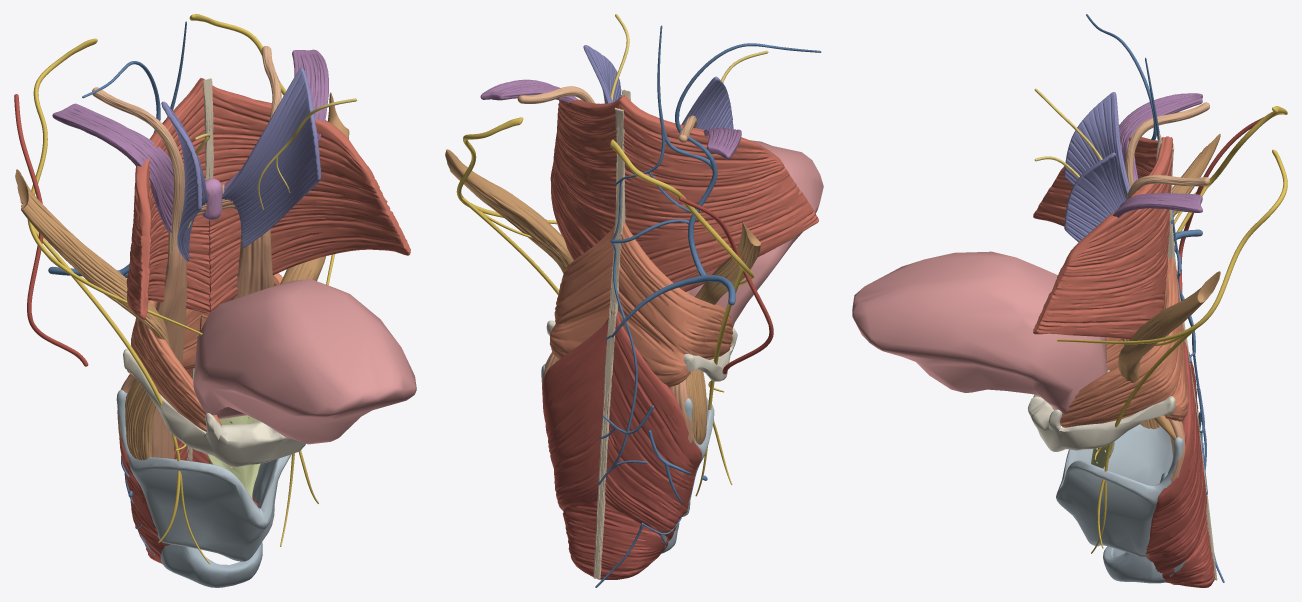
The model's file is pharynx.glb.
3 views of the same model, side by side, from view 1: azimuth 30°, elevation 25°; view 2: azimuth 150°, elevation 25°; view 3: azimuth 270°, elevation 25° (orthographic). The views are drawn at different scales.
Parts seen in each view (by area): view 1: tongue, superior-constrictor, thyroid-cartilage, tensor-veli-palatini, stylopharyngeus, levator-veli-palatini, palatopharyngeus, hyoid-bone, glossopharyngeal-nerves, middle-constrictor, salpingopharyngeus, cricoid-cartilage (+7 smaller); view 2: superior-constrictor, inferior-constrictor, middle-constrictor, stylopharyngeus, pharyngeal-venous-plexus, glossopharyngeal-nerves, pharyngeal-raphe, tongue, tensor-veli-palatini, levator-veli-palatini, ascending-pharyngeal-artery, salpingopharyngeus (+4 smaller); view 3: tongue, superior-constrictor, thyroid-cartilage, inferior-constrictor, middle-constrictor, tensor-veli-palatini, stylopharyngeus, glossopharyngeal-nerves, hyoid-bone, levator-veli-palatini, pharyngeal-venous-plexus, salpingopharyngeus (+3 smaller).
Boxes of the visible parts, x1,y1,x2,y2 form: tongue: (193, 279, 416, 444); superior-constrictor: (126, 78, 410, 319); thyroid-cartilage: (116, 389, 291, 561); tensor-veli-palatini: (161, 67, 321, 261); stylopharyngeus: (15, 92, 349, 460); levator-veli-palatini: (52, 49, 328, 232); palatopharyngeus: (117, 183, 273, 564); hyoid-bone: (123, 349, 305, 466); glossopharyngeal-nerves: (27, 14, 334, 564); middle-constrictor: (127, 273, 282, 431); salpingopharyngeus: (92, 46, 281, 266); cricoid-cartilage: (160, 542, 262, 587); superior-constrictor: (550, 95, 818, 291); inferior-constrictor: (542, 311, 702, 579); middle-constrictor: (549, 223, 732, 387); stylopharyngeus: (445, 149, 760, 444); pharyngeal-venous-plexus: (595, 25, 821, 587); glossopharyngeal-nerves: (456, 117, 754, 496); pharyngeal-raphe: (593, 89, 630, 579); tongue: (689, 140, 823, 326); tensor-veli-palatini: (583, 45, 733, 130); levator-veli-palatini: (480, 79, 741, 159); ascending-pharyngeal-artery: (679, 197, 773, 374); salpingopharyngeus: (517, 86, 696, 142); tongue: (852, 251, 1107, 414); superior-constrictor: (1033, 136, 1173, 339); thyroid-cartilage: (1056, 424, 1186, 576); inferior-constrictor: (1145, 340, 1214, 587); middle-constrictor: (1060, 257, 1188, 427); tensor-veli-palatini: (1064, 92, 1130, 242); stylopharyngeus: (1118, 134, 1220, 441); glossopharyngeal-nerves: (1057, 106, 1287, 553); hyoid-bone: (1028, 394, 1175, 451); levator-veli-palatini: (1112, 93, 1202, 217); pharyngeal-venous-plexus: (1086, 14, 1224, 582); salpingopharyngeus: (1125, 102, 1209, 199).
Size of the model in its own units: 0.8036 by 1.32 by 1.01.
